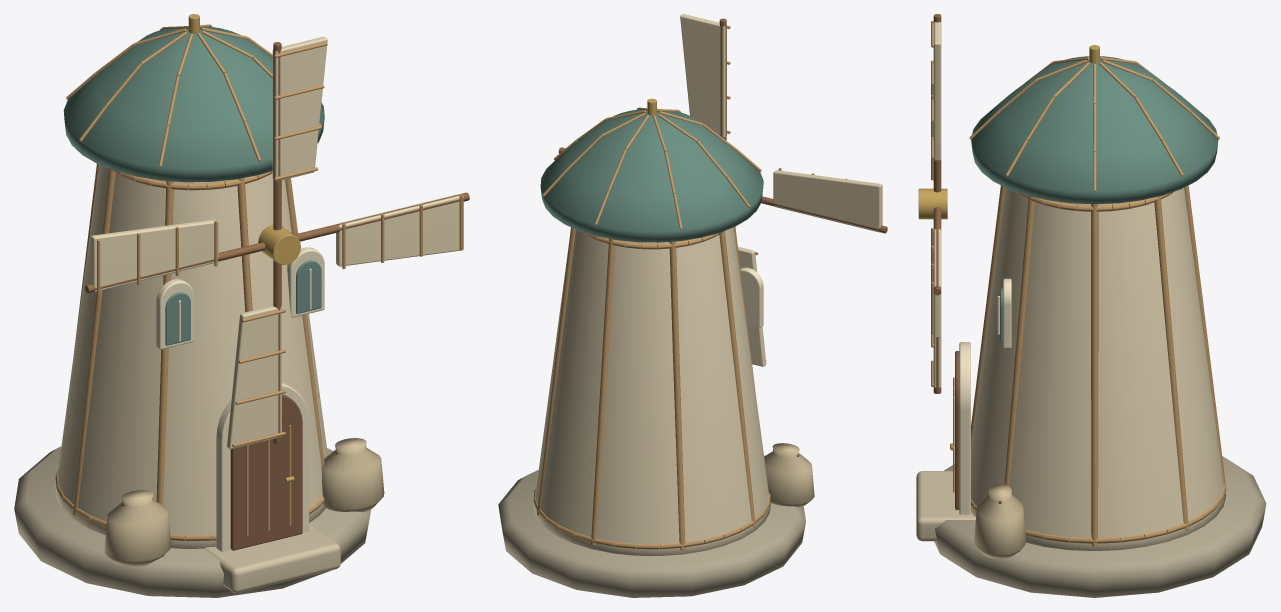
File: cozy_windmill.glb
The picture shows the model from 3 angles, left to right: view 1: azimuth 30°, elevation 25°; view 2: azimuth 150°, elevation 25°; view 3: azimuth 270°, elevation 25°; orthographic projection. The views are drawn at different scales.
Parts seen in each view (by area): view 1: windmill_Plaster, windmill_MillRoof, Rotor_Canvas, windmill_Stone, windmill_TimberLight, windmill_Cloth, windmill_Door, windmill_Trim, windmill_StoneLight, Rotor_Timber, Rotor_TimberLight, windmill_Glass (+1 smaller); view 2: windmill_Plaster, windmill_MillRoof, windmill_Stone, windmill_TimberLight, Rotor_Canvas, windmill_Cloth, windmill_Trim, Rotor_Timber; view 3: windmill_Plaster, windmill_MillRoof, windmill_Stone, windmill_TimberLight, windmill_Cloth, windmill_Trim, windmill_StoneLight, Rotor_Canvas, Rotor_Timber, Rotor_TimberLight, Rotor_Brass, windmill_Door.
Boxes of the visible parts, x1,y1,x2,y2 form: windmill_Plaster: [55, 164, 327, 548]; windmill_MillRoof: [63, 26, 324, 182]; Rotor_Canvas: [91, 36, 463, 449]; windmill_Stone: [14, 446, 370, 597]; windmill_TimberLight: [55, 24, 324, 540]; windmill_Cloth: [104, 438, 384, 566]; windmill_Door: [230, 394, 302, 550]; windmill_Trim: [156, 247, 324, 551]; windmill_StoneLight: [204, 523, 340, 593]; Rotor_Timber: [85, 42, 469, 443]; Rotor_TimberLight: [97, 42, 462, 447]; windmill_Glass: [165, 260, 321, 345]; windmill_Plaster: [533, 227, 770, 555]; windmill_MillRoof: [540, 108, 763, 242]; windmill_Stone: [498, 470, 805, 597]; windmill_TimberLight: [533, 107, 770, 550]; Rotor_Canvas: [680, 14, 882, 366]; windmill_Cloth: [764, 443, 814, 507]; windmill_Trim: [740, 267, 763, 327]; Rotor_Timber: [558, 18, 887, 233]; windmill_Plaster: [971, 188, 1226, 550]; windmill_MillRoof: [971, 56, 1218, 204]; windmill_Stone: [934, 456, 1266, 597]; windmill_TimberLight: [953, 57, 1226, 546]; windmill_Cloth: [974, 484, 1026, 559]; windmill_Trim: [959, 278, 1011, 514]; windmill_StoneLight: [916, 471, 975, 541]; Rotor_Canvas: [934, 22, 941, 387]; Rotor_Timber: [933, 14, 941, 393]; Rotor_TimberLight: [931, 21, 934, 387]; Rotor_Brass: [918, 188, 947, 219]; windmill_Door: [955, 351, 959, 509].
Size of the model in its own units: 2.86 by 3.88 by 2.4.
